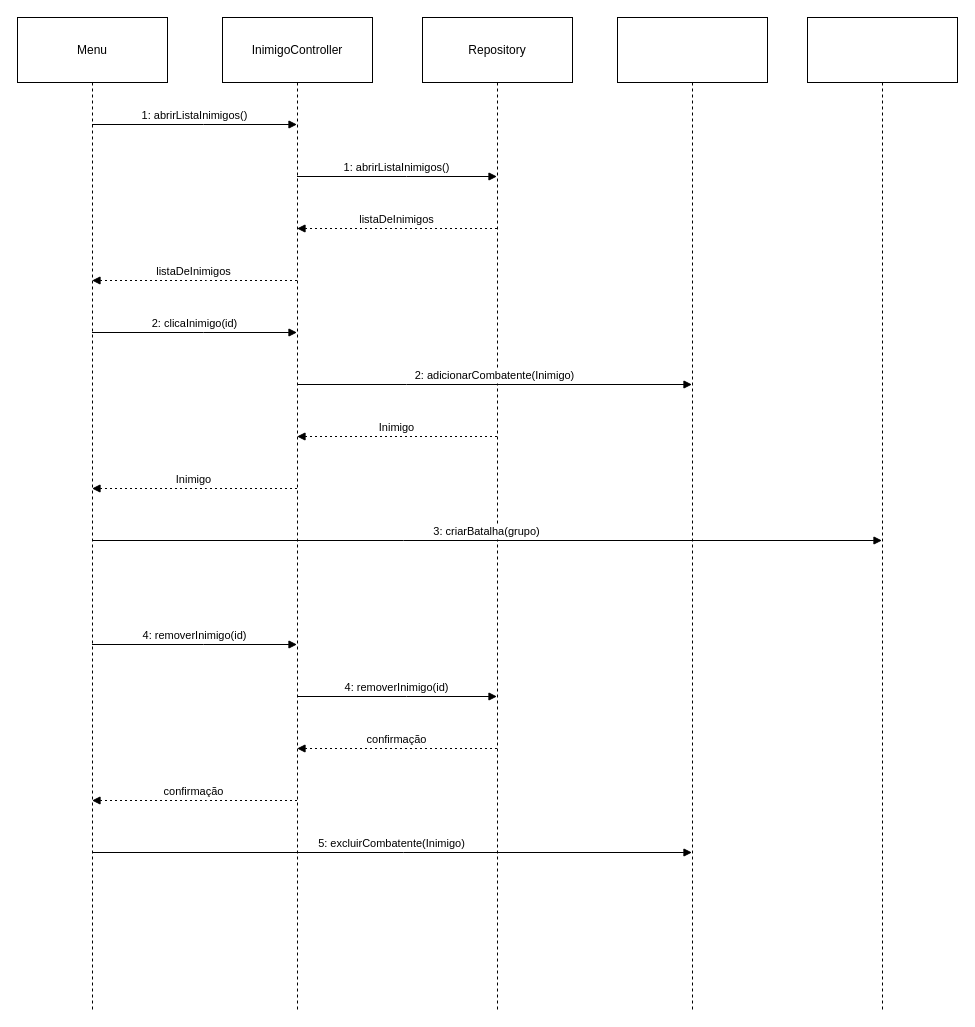
Some shapes in this 975 by 1027 pixel diagram are drawn without their labels. The shapes that lost their labels are listed below. From the top down, each one's box as (x1, y1, x2, y2) in pixels, then its label:
(616, 16, 768, 1010): Grupo
(806, 16, 958, 1010): BatalhaController
